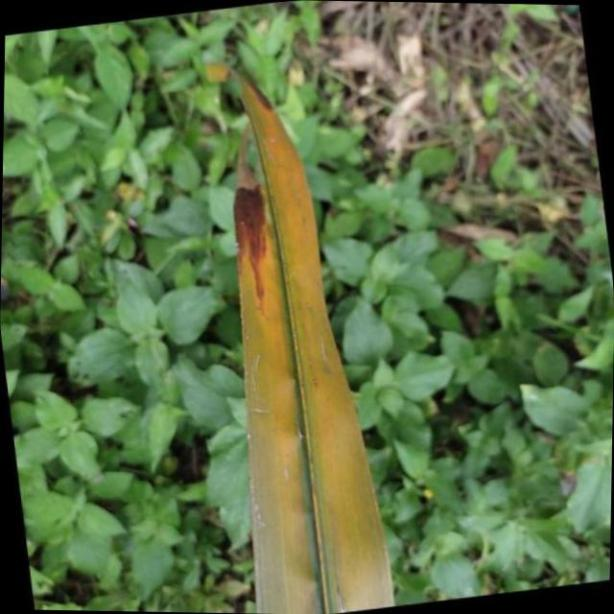Megnesium: (202, 60, 396, 612)
